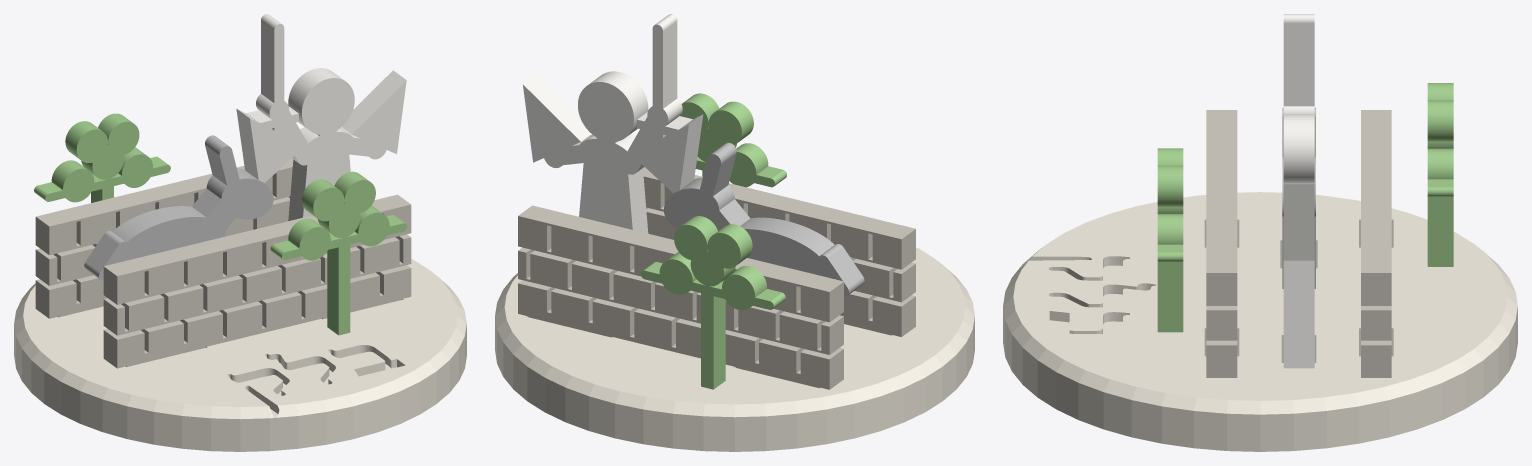
File: balak.glb
3 renders of one model, left to right at view 1: azimuth 30°, elevation 25°; view 2: azimuth 150°, elevation 25°; view 3: azimuth 270°, elevation 25°, orthographic. The views are drawn at different scales.
Parts seen in each view (by area): view 1: stage, wall-2, angel, wall-1, donkey, vine-2, vine-1; view 2: stage, wall-1, angel, wall-2, vine-1, donkey, vine-2; view 3: stage, angel, wall-2, wall-1, vine-2, vine-1, donkey.
Part boxes in pixels (<box>): stage: <box>14,259,466,451</box>; wall-2: <box>103,194,411,368</box>; angel: <box>236,14,406,220</box>; wall-1: <box>35,158,293,318</box>; donkey: <box>84,135,273,280</box>; vine-2: <box>270,171,407,335</box>; vine-1: <box>34,113,170,202</box>; stage: <box>495,247,974,451</box>; wall-1: <box>518,205,843,389</box>; angel: <box>522,14,703,233</box>; wall-2: <box>643,167,915,336</box>; vine-1: <box>641,216,785,389</box>; donkey: <box>664,142,864,296</box>; vine-2: <box>680,93,786,187</box>; stage: <box>1003,192,1517,451</box>; angel: <box>1283,14,1314,368</box>; wall-2: <box>1206,110,1237,377</box>; wall-1: <box>1361,110,1391,377</box>; vine-2: <box>1157,148,1183,332</box>; vine-1: <box>1427,83,1453,266</box>; donkey: <box>1282,107,1315,288</box>.
Bounding box in the file's own units: 40 × 30.5 × 40.
